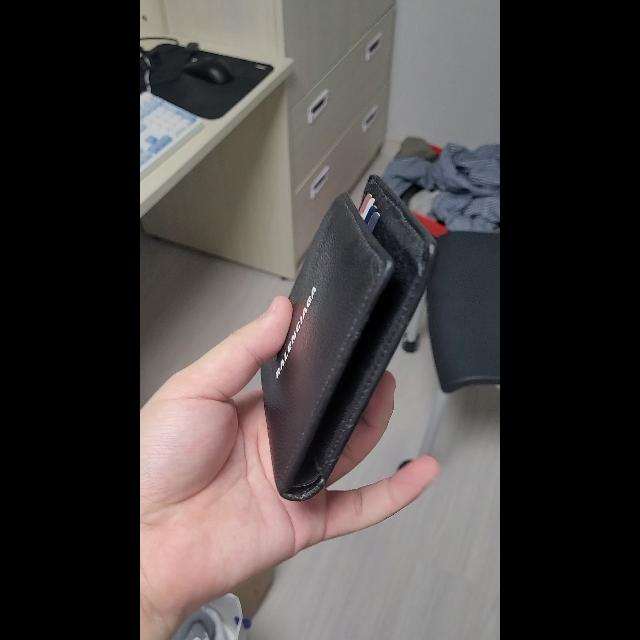WALLET: (260, 174, 438, 502)
